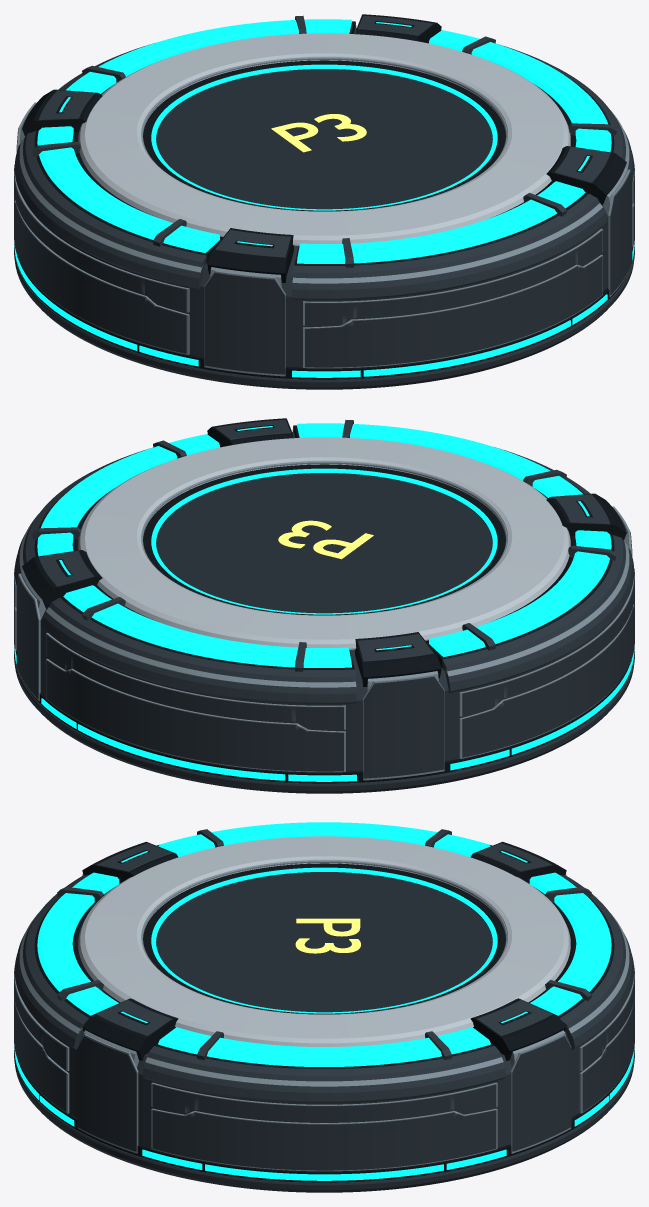
Rendered from Grippy.fbx.
3 renders of one model, top to bottom at view 1: azimuth 30°, elevation 25°; view 2: azimuth 150°, elevation 25°; view 3: azimuth 270°, elevation 25°, orthographic.
Parts seen in each view (by area): view 1: SM_Puck_Grippy_P3_HighDetail; view 2: SM_Puck_Grippy_P3_HighDetail; view 3: SM_Puck_Grippy_P3_HighDetail.
Boxes of the visible parts, x1,y1,x2,y2 form: SM_Puck_Grippy_P3_HighDetail: [14, 14, 634, 389]; SM_Puck_Grippy_P3_HighDetail: [14, 418, 634, 793]; SM_Puck_Grippy_P3_HighDetail: [14, 822, 634, 1192].
Size of the model in its own units: 90.3 by 90.3 by 20.9.
